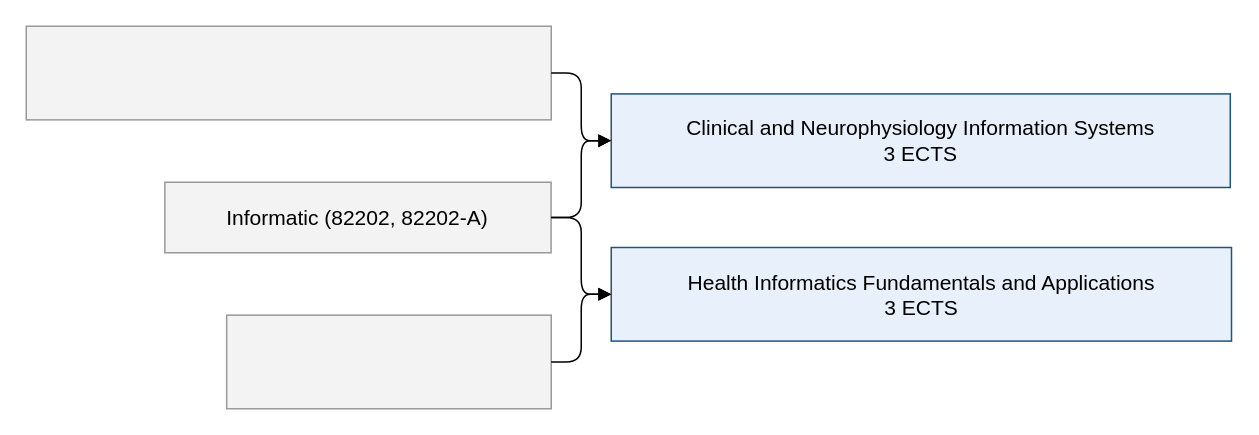
Image size: 1259x435. Some labels were removed from this diagram. Each missing label, with the centre of its shape:
"Informatics (57828) Basic IT Skills (B9254)" goes at point (388, 361).
"Information Processing Systems (20741) Basic and Laboratory Informatics (39176)" goes at point (288, 72).
